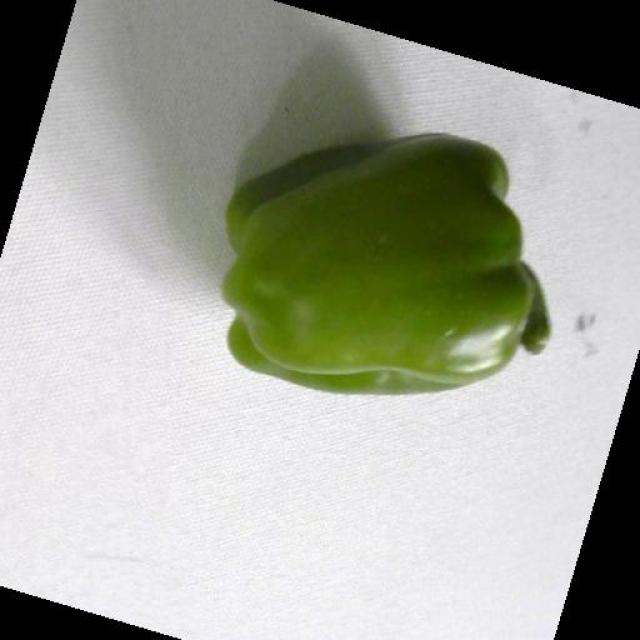Fresh_Capsicum: (210, 110, 555, 434)
